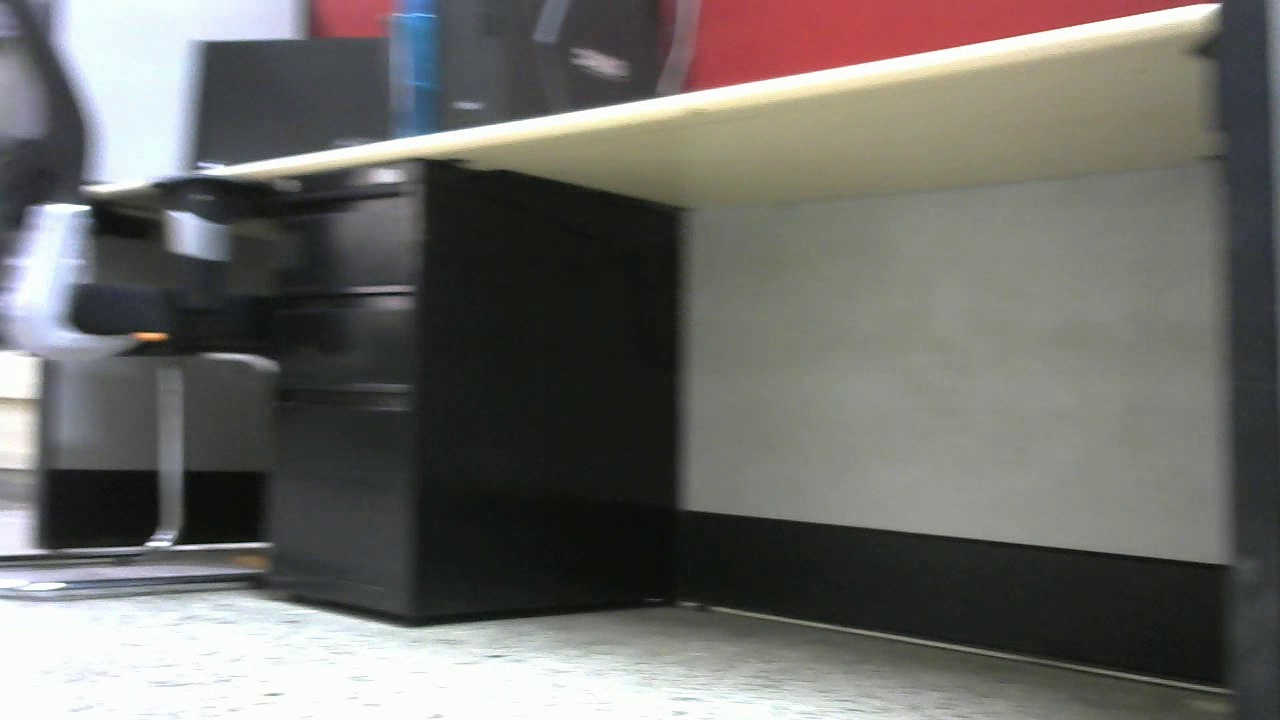chair: (1, 1, 303, 598)
